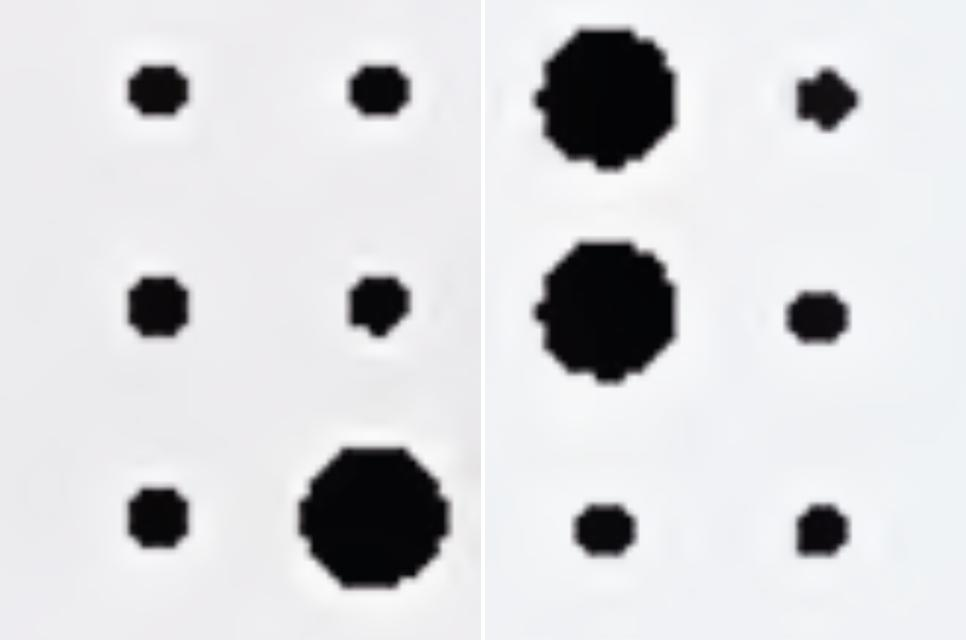B: (542, 29, 853, 564)
capital: (127, 65, 450, 590)
